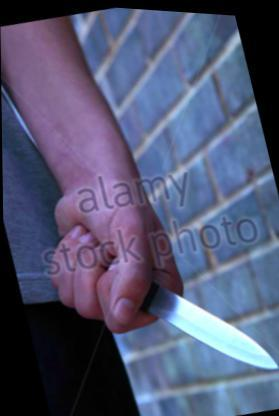knife: (45, 181, 277, 410)
